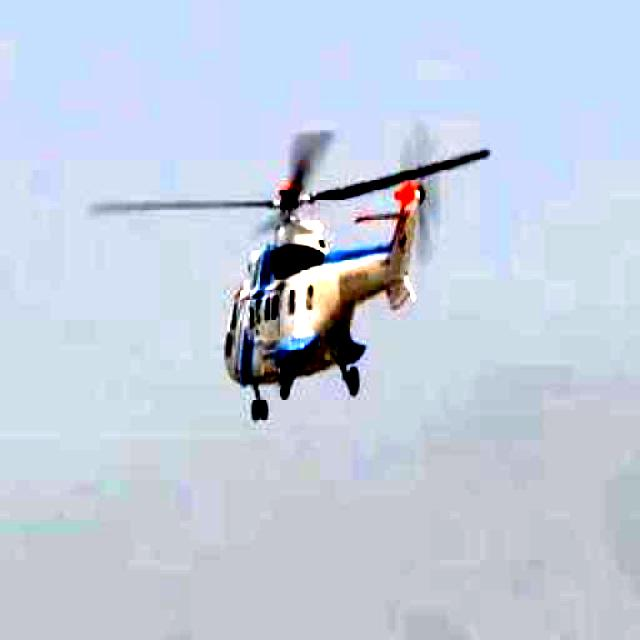drone: (101, 108, 509, 429)
